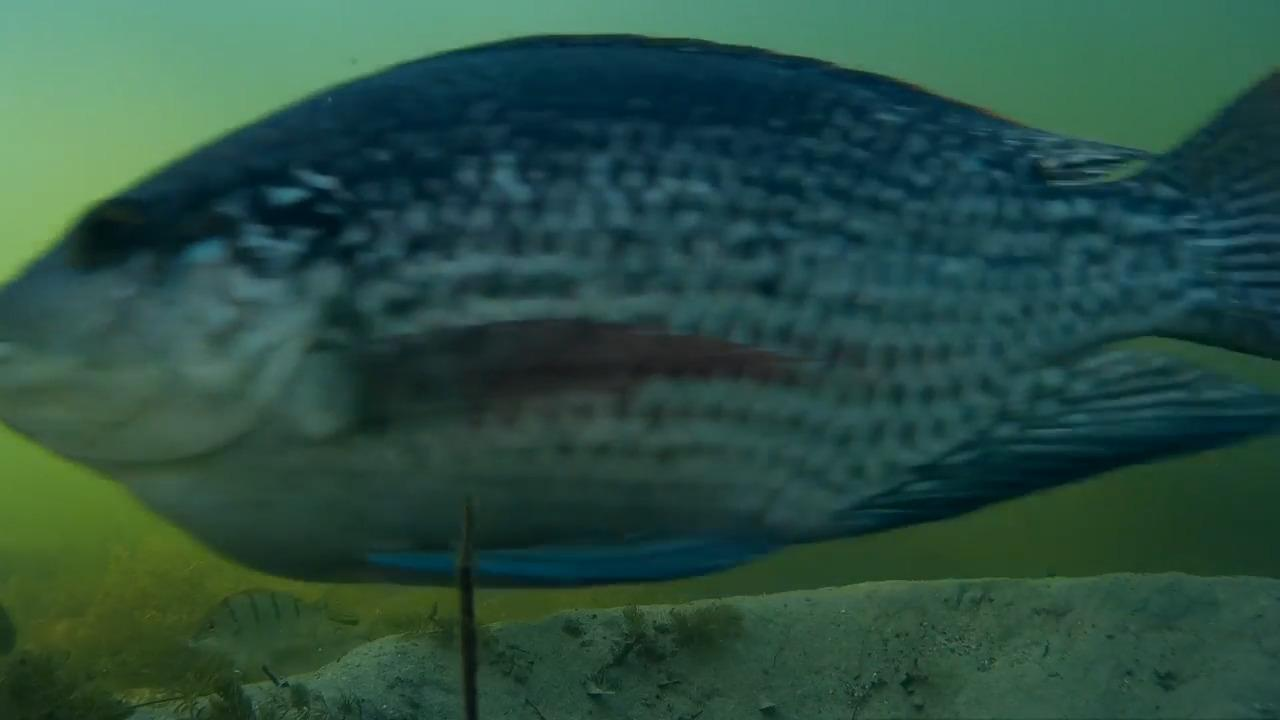Tilapia: (0, 33, 1280, 565), (153, 580, 357, 672)
